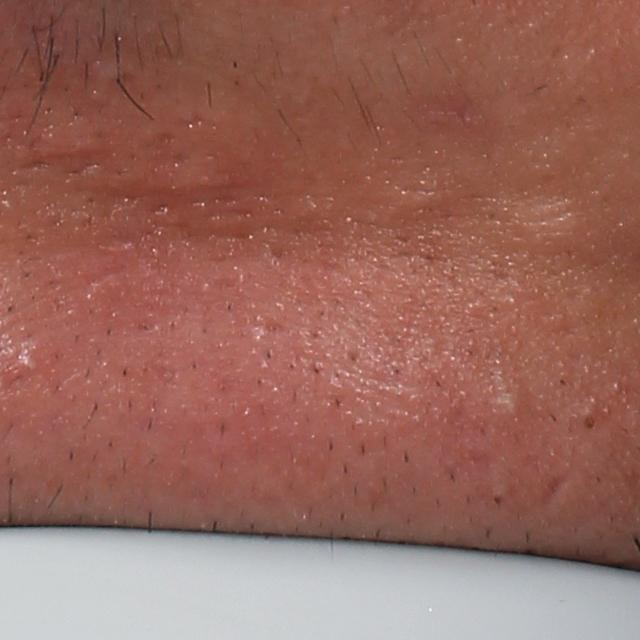atrophic_scar: (147, 166, 418, 251), (470, 190, 571, 249), (50, 185, 140, 237), (51, 265, 130, 311), (406, 90, 486, 130), (534, 472, 570, 516)
comedo: (583, 415, 598, 431)
